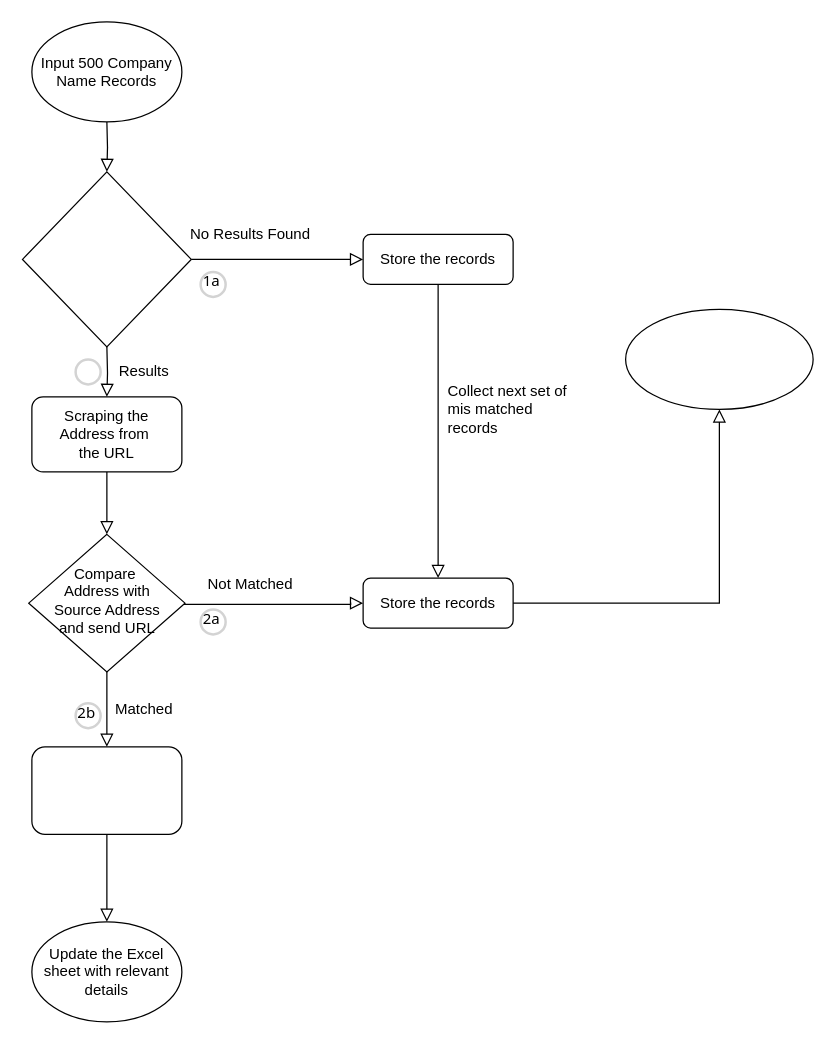
The diagram is 835 pixels wide and 1044 high, and some of its shapes have lost their labels. Each missing label, with the box of its shape:
1b: (74, 358, 101, 385)
Extract the Email Id, Phone Number using Contact Scrape module: (31, 746, 182, 834)
Fetching URL using Custom Google Search Engine API: (21, 171, 191, 347)
Identify the alternative way to find the exact URL to process further: (624, 308, 813, 409)
